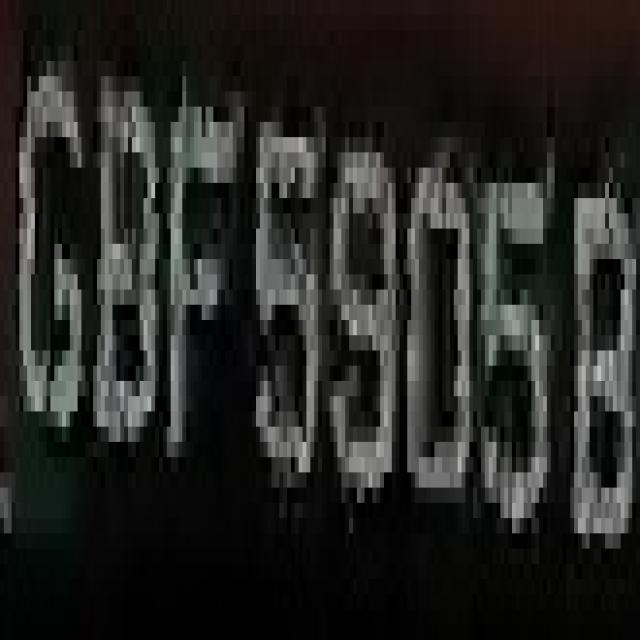0: (404, 106, 474, 564)
5: (240, 107, 322, 518), (477, 122, 547, 548)
9: (326, 122, 403, 533)
B: (563, 137, 636, 533), (97, 61, 167, 457)
F: (163, 76, 233, 457)
G: (15, 46, 86, 472)
